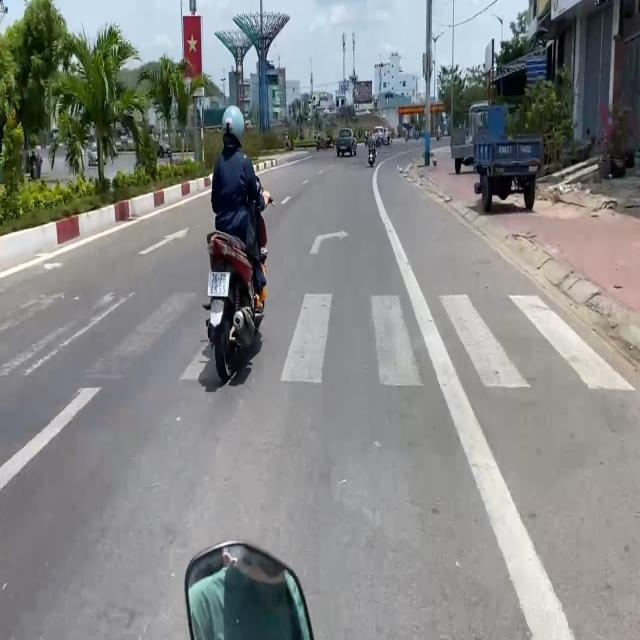walk-crossing: (2, 286, 638, 392)
